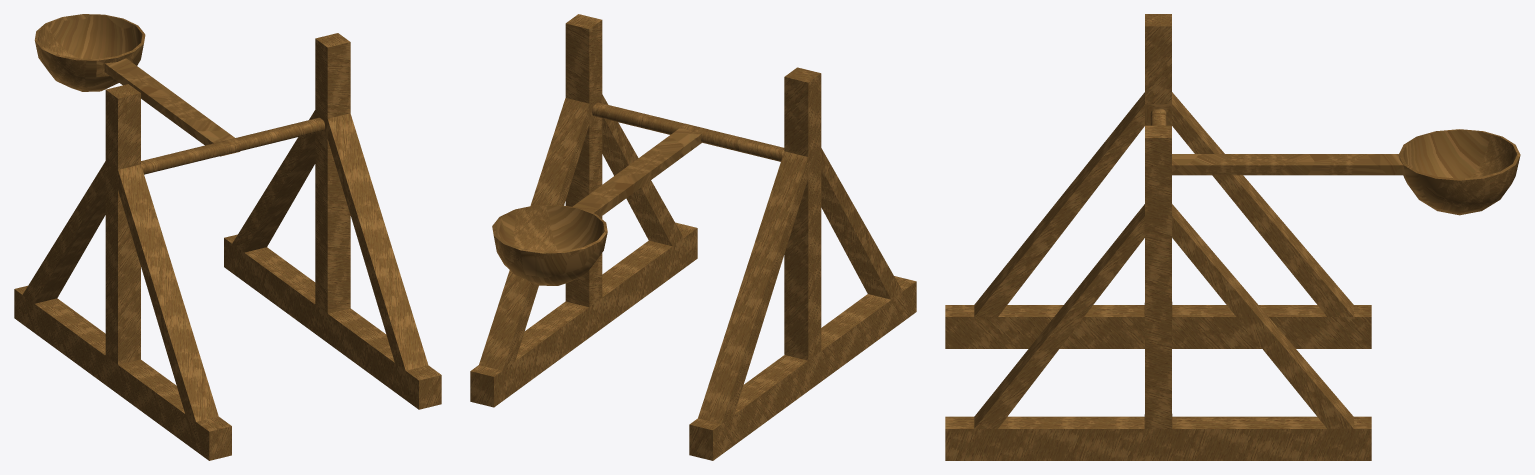
File: CatapultaJunta.fbx
3 views of the same model, side by side, from view 1: azimuth 30°, elevation 25°; view 2: azimuth 150°, elevation 25°; view 3: azimuth 270°, elevation 25° (orthographic). The views are drawn at different scales.
Visible parts, largest first — view 1: Posa Catapulta, Catapulta; view 2: Posa Catapulta, Catapulta; view 3: Posa Catapulta, Catapulta.
Boxes of the visible parts, box(x1,y1,x2,y2) form: Posa Catapulta: box(14, 33, 441, 460); Catapulta: box(34, 14, 240, 156); Posa Catapulta: box(470, 14, 916, 460); Catapulta: box(492, 126, 702, 285); Posa Catapulta: box(945, 14, 1371, 460); Catapulta: box(1172, 129, 1520, 215).
Size of the model in its own units: 2350 by 2853 by 4604.
